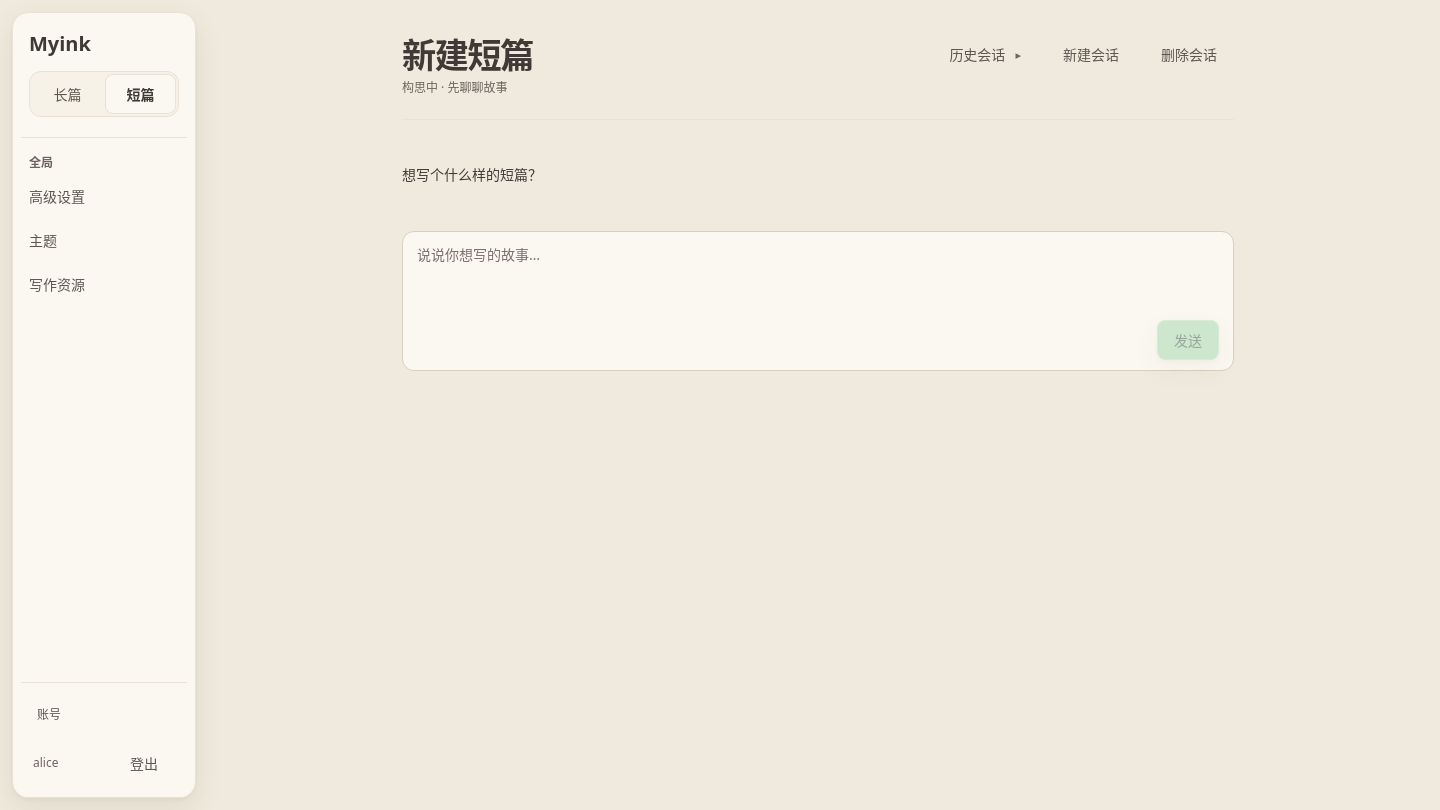
Test: shows the user turn as soon as Enter is pressed, before the reply lands
The image size is (1440, 810).
Type "一个渡口的故事" into the text box named "对助手说" at (818, 275), box 417,244 -> 1219,307
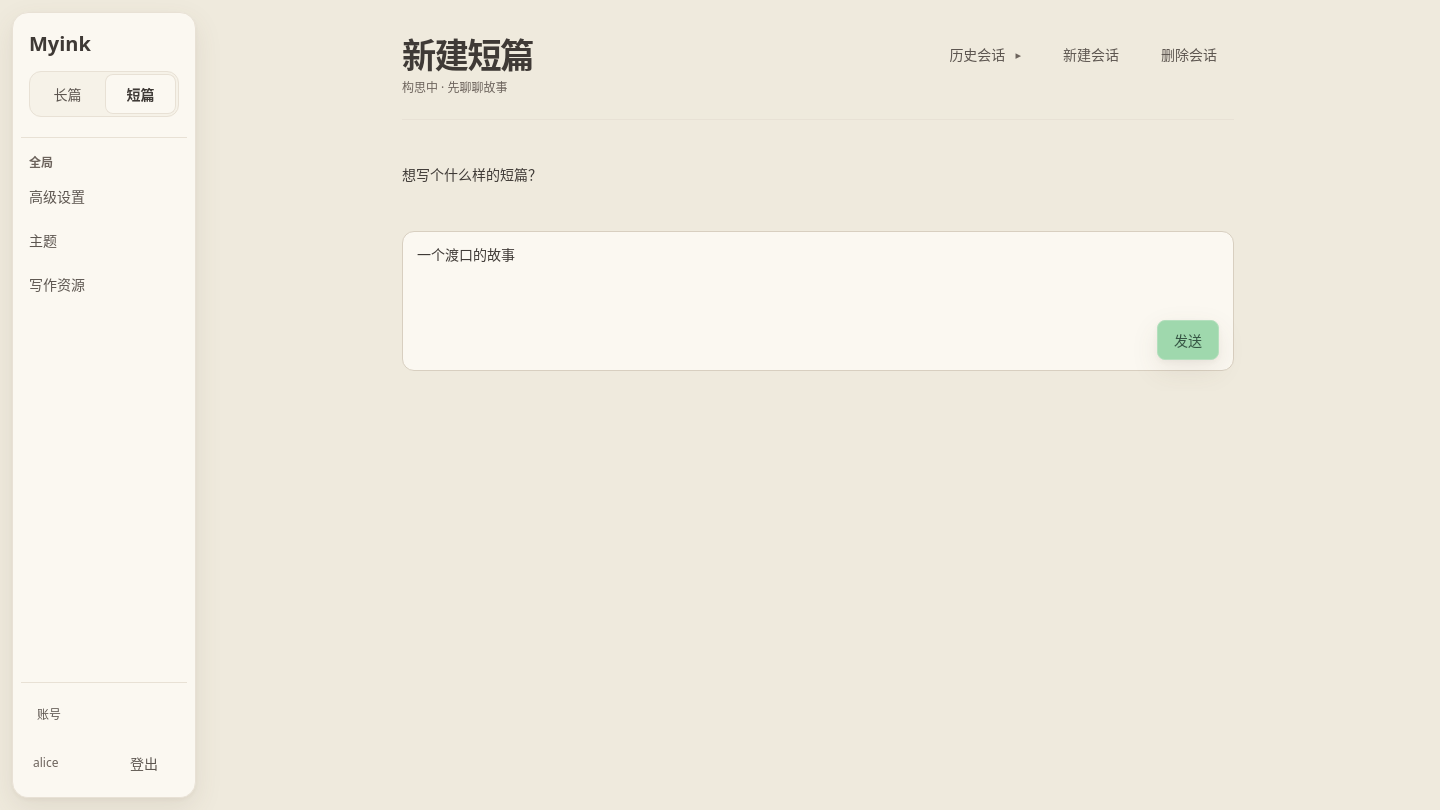
Press Enter in the text box named "对助手说", box 417,244 -> 1219,307
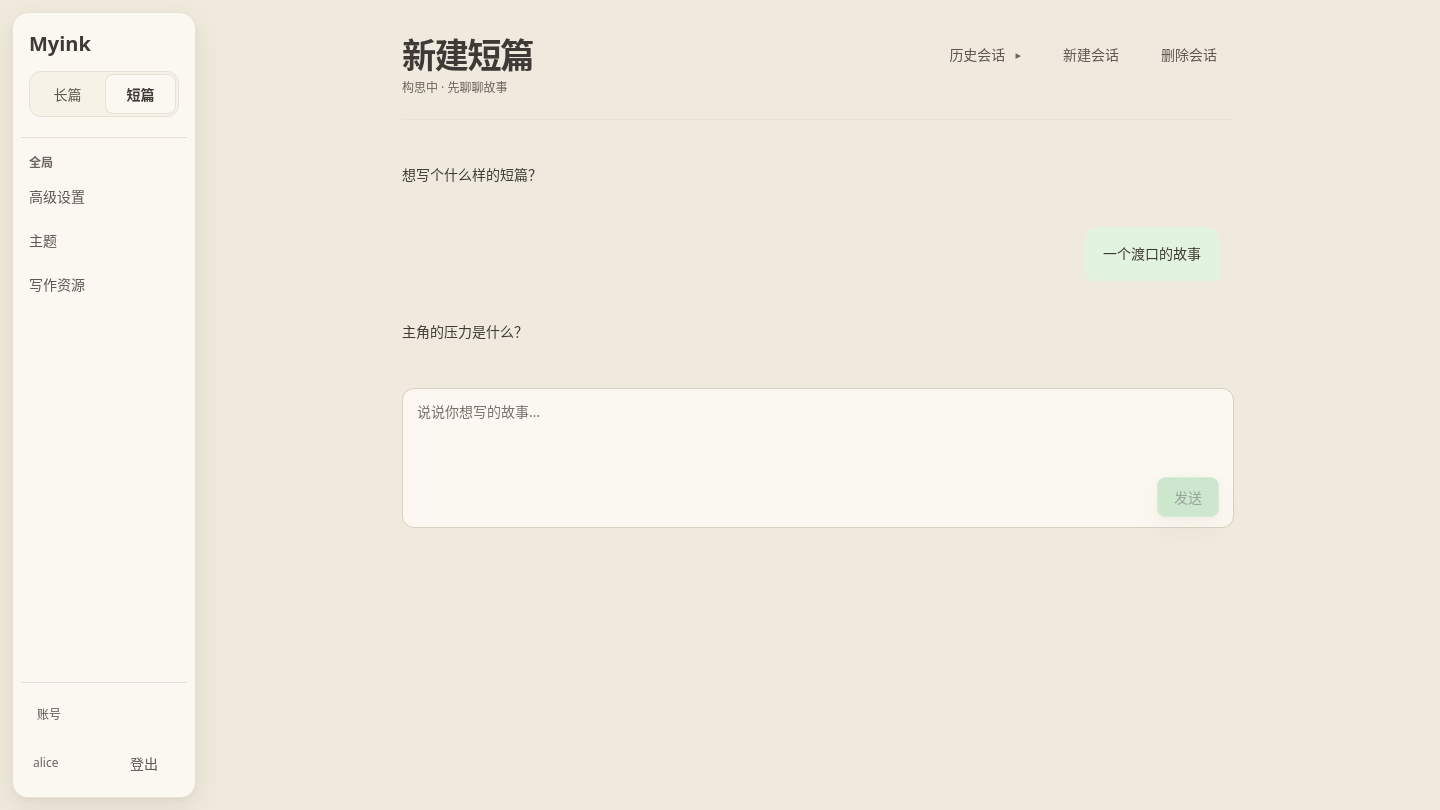
Now the text box named "对助手说" is empty, box 417,401 -> 1219,464
Now the text "主角的压力是什么？" is shown, box 402,319 -> 528,346
Now the text "一个渡口的故事" is shown once, box 1103,241 -> 1201,267
